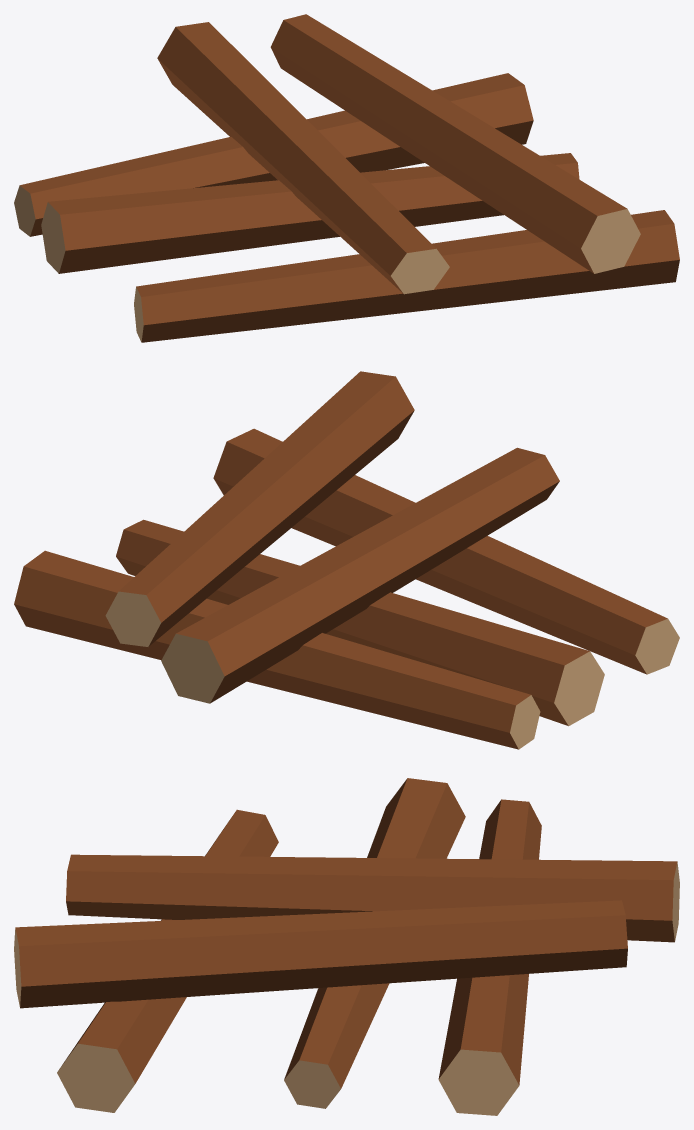
The model's file is WoodStackfbx.fbx.
3 views of the same model, one above another, from view 1: azimuth 30°, elevation 25°; view 2: azimuth 150°, elevation 25°; view 3: azimuth 270°, elevation 25° (orthographic). The views are drawn at different scales.
Parts seen in each view (by area): view 1: Cylinder, Cylinder.004, Cylinder.001, Cylinder.003, Cylinder.002; view 2: Cylinder.003, Cylinder.004, Cylinder.002, Cylinder, Cylinder.001; view 3: Cylinder.004, Cylinder.003, Cylinder.002, Cylinder.001, Cylinder.
Part boxes in pixels (x1,y1,x2,y2): Cylinder: (134,210,679,342); Cylinder.004: (270,14,640,273); Cylinder.001: (41,153,579,273); Cylinder.003: (157,22,449,294); Cylinder.002: (14,73,533,236); Cylinder.003: (161,447,559,703); Cylinder.004: (105,371,414,646); Cylinder.002: (14,550,540,749); Cylinder: (213,428,679,674); Cylinder.001: (116,519,604,726); Cylinder.004: (14,900,627,1008); Cylinder.003: (66,854,679,942); Cylinder.002: (438,799,541,1115); Cylinder.001: (284,778,465,1108); Cylinder: (57,809,278,1112).
Size of the model in its own units: 156 by 35.48 by 164.
